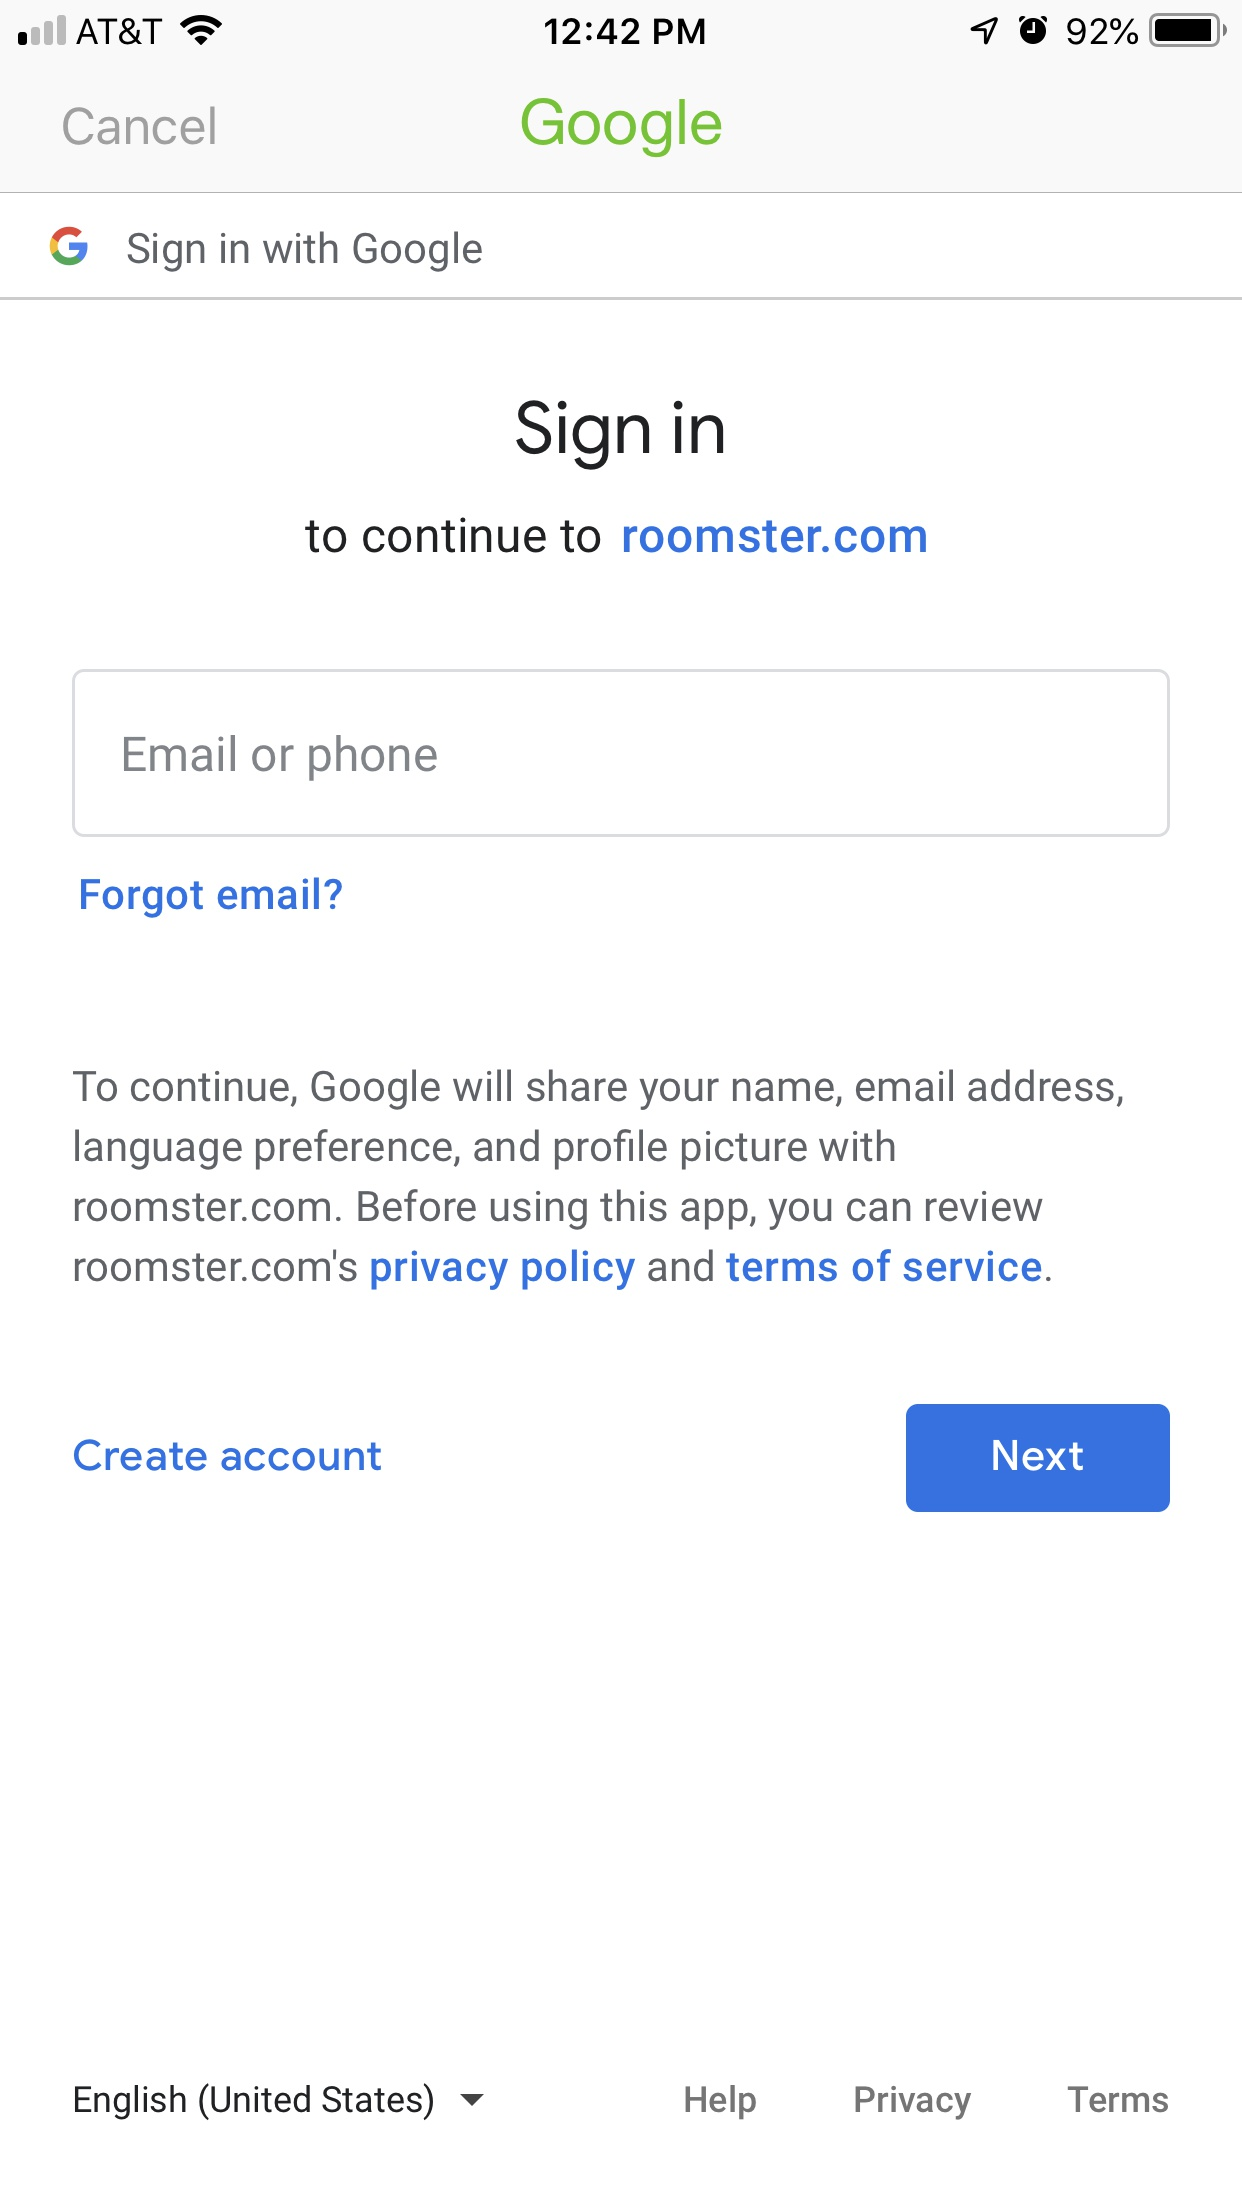EditText: (71, 669, 1171, 839)
Icon: (50, 227, 89, 267), (459, 2093, 485, 2106)
Text: (73, 1068, 1124, 1291), (305, 517, 927, 555), (127, 231, 484, 274), (516, 400, 723, 472), (124, 735, 438, 783), (76, 2082, 435, 2122), (522, 97, 723, 159), (82, 877, 344, 919), (74, 1439, 384, 1473), (64, 106, 217, 147), (854, 2085, 972, 2122), (1068, 2085, 1169, 2112), (685, 2085, 757, 2122)
TextButton: (905, 1404, 1171, 1513)
UpperTaskBar: (2, 2, 1242, 49)
